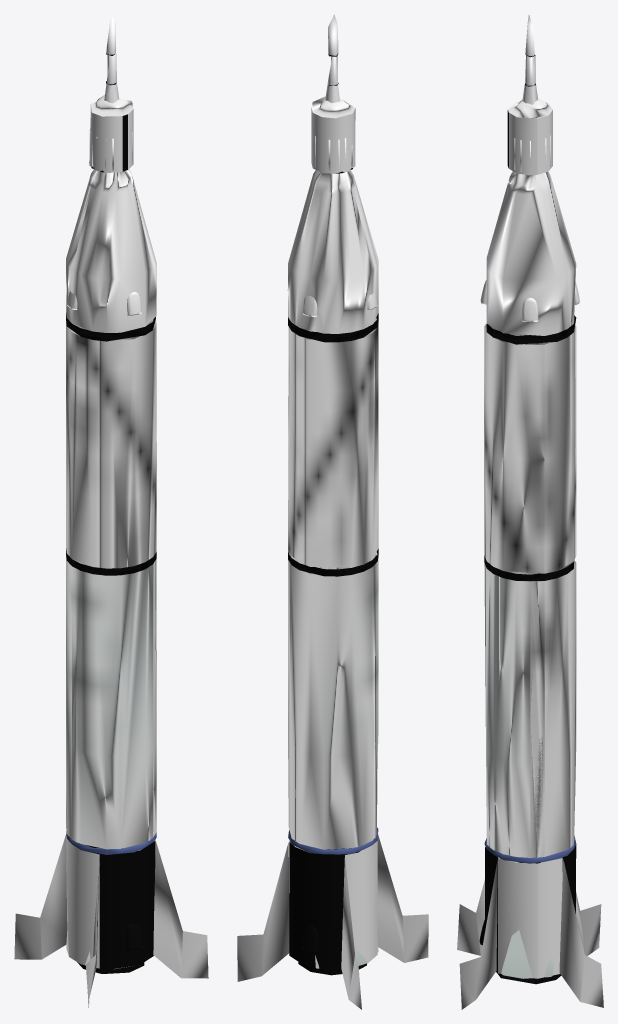
Rendered from space-jupiter-c.glb.
3 renders of one model, left to right at view 1: azimuth 30°, elevation 25°; view 2: azimuth 150°, elevation 25°; view 3: azimuth 270°, elevation 25°, orthographic.
Visible parts, largest first — view 1: pCylinder1, jupiterc_9, jupiterc_8, pCube3 jup, pCylinder2, pCylinder3, jupiterc_7; view 2: pCylinder1, jupiterc_9, jupiterc_7, jupiterc_2, pCylinder2, pCube3 jup, pCylinder3; view 3: pCylinder1, jupiterc_9, pCylinder2, jupiterc_2, jupiterc_8, jupiterc_7, pCube3 jup, pCylinder3, jupiterc_1.
Part boxes in pixels (x1,y1,x2,y2): pCylinder1: (66, 169, 156, 849); jupiterc_9: (66, 831, 156, 969); jupiterc_8: (153, 841, 208, 978); pCube3 jup: (14, 834, 67, 959); pCylinder2: (89, 95, 133, 172); pCylinder3: (104, 14, 119, 103); jupiterc_7: (85, 857, 99, 1007); pCylinder1: (288, 170, 378, 849); jupiterc_9: (288, 827, 378, 969); jupiterc_7: (377, 834, 428, 962); jupiterc_2: (237, 842, 289, 981); pCylinder2: (311, 96, 355, 173); pCube3 jup: (341, 858, 361, 1009); pCylinder3: (325, 14, 340, 103); pCylinder1: (484, 171, 576, 857); jupiterc_9: (484, 835, 576, 978); pCylinder2: (507, 98, 552, 175); jupiterc_2: (559, 859, 603, 1007); jupiterc_8: (459, 860, 497, 1009); jupiterc_7: (457, 879, 484, 955); pCube3 jup: (576, 892, 601, 955); pCylinder3: (522, 15, 537, 104); jupiterc_1: (522, 297, 538, 321).
Size of the model in its own units: 2.41 by 17.47 by 2.41.
Materials: 4 (4 with a texture image).
